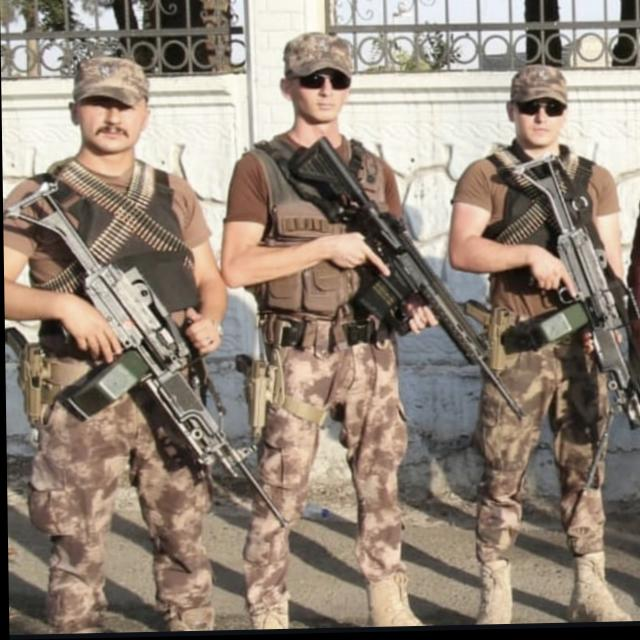poh_personel: (219, 29, 440, 636), (1, 52, 227, 640), (446, 64, 630, 632)
